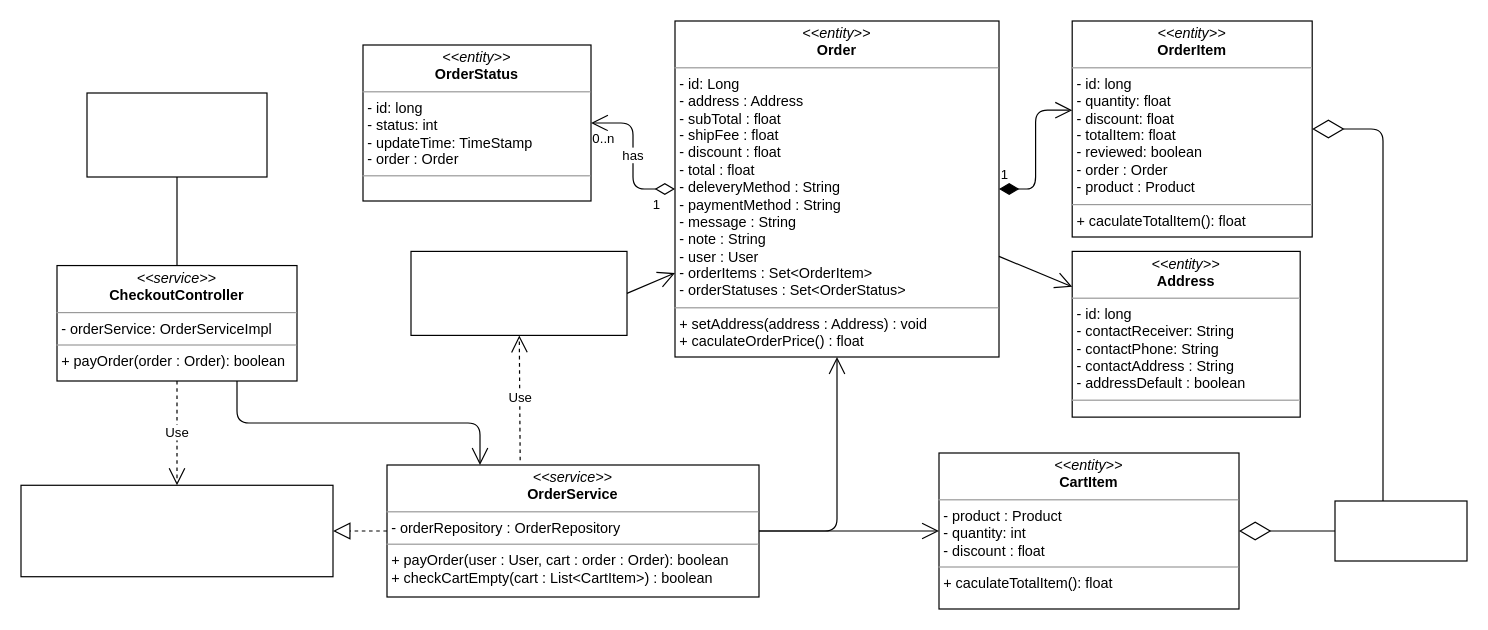
Image size: 1488x630. Some labels were removed from this diagram. Here are the shapes that lost their labels. From the top down, the centre of each, then its label:
At [176,134]: "<<boundary>> CheckView + doPayment(data) : void".
At [518,292]: "<<interface>> OrderRepository + save(order : Order): Order".
At [176,530]: "<<interface>> OrderService + payOrder(user : User, order : Order): boolean".
At [1400,530]: "«entity» Product".
